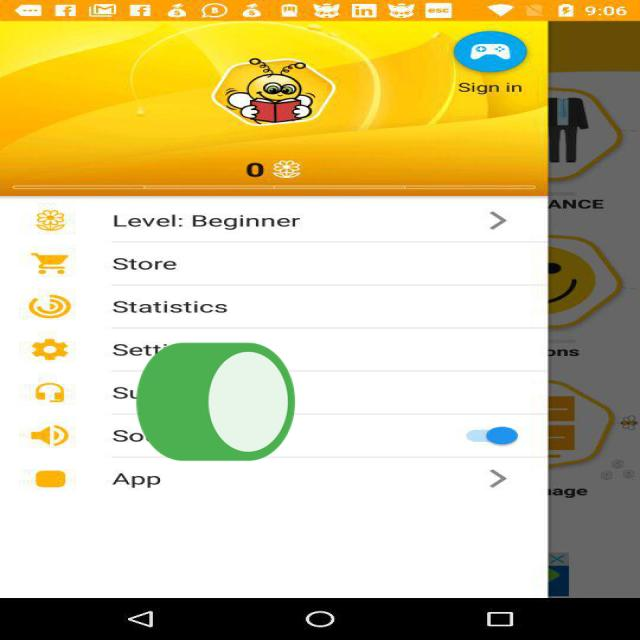social proof: (129, 298, 302, 516)
